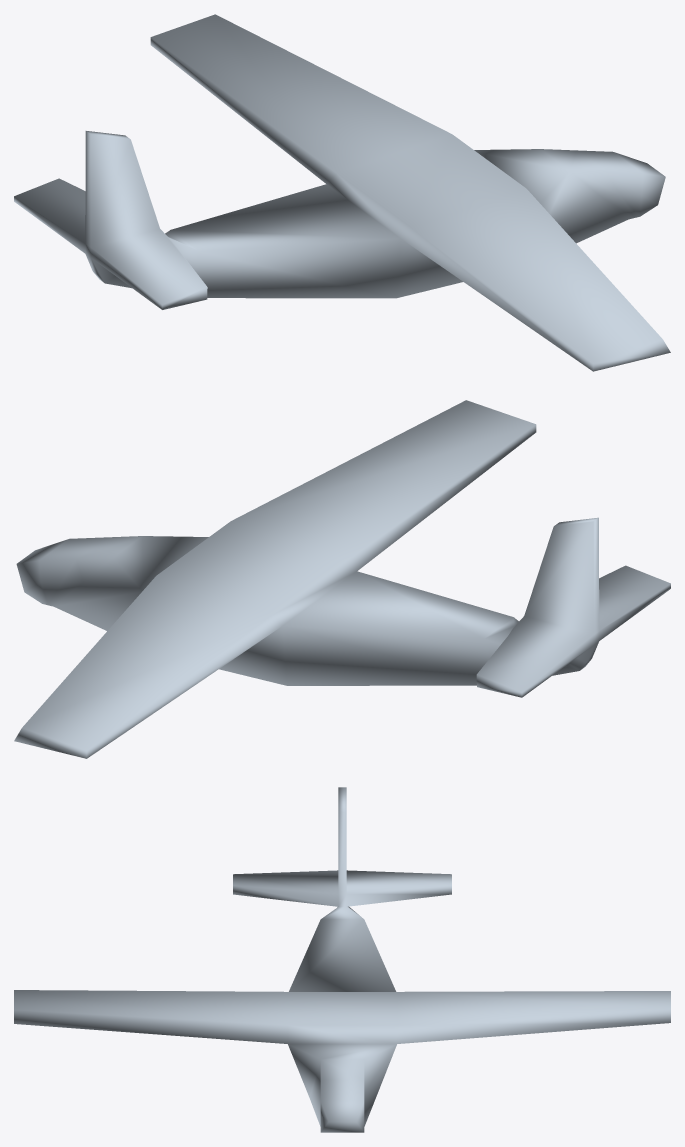
File: Low_Polygon_Plane.glb
The picture shows the model from 3 angles, top to bottom: view 1: azimuth 30°, elevation 25°; view 2: azimuth 150°, elevation 25°; view 3: azimuth 270°, elevation 25°; orthographic projection. The views are drawn at different scales.
Visible parts, largest first — view 1: Cube_2, Cube_0, Cube_1; view 2: Cube_2, Cube_0, Cube_1; view 3: Cube_2, Cube_0, Cube_1.
Boxes of the visible parts, left/top/right/bottom form: Cube_2: left=14, top=14, right=670, bottom=371; Cube_0: left=85, top=149, right=665, bottom=298; Cube_1: left=541, top=149, right=642, bottom=194; Cube_2: left=14, top=400, right=670, bottom=758; Cube_0: left=16, top=536, right=598, bottom=685; Cube_1: left=39, top=536, right=141, bottom=582; Cube_2: left=14, top=787, right=670, bottom=1043; Cube_0: left=288, top=906, right=396, bottom=1132; Cube_1: left=320, top=1059, right=364, bottom=1100.
Bounding box in the file's own units: 8.85 × 3.26 × 12.
